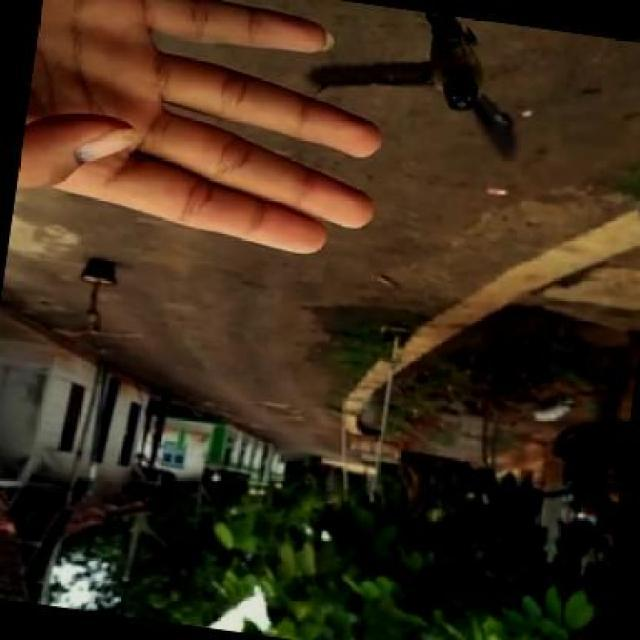Bird: (309, 3, 542, 172)
